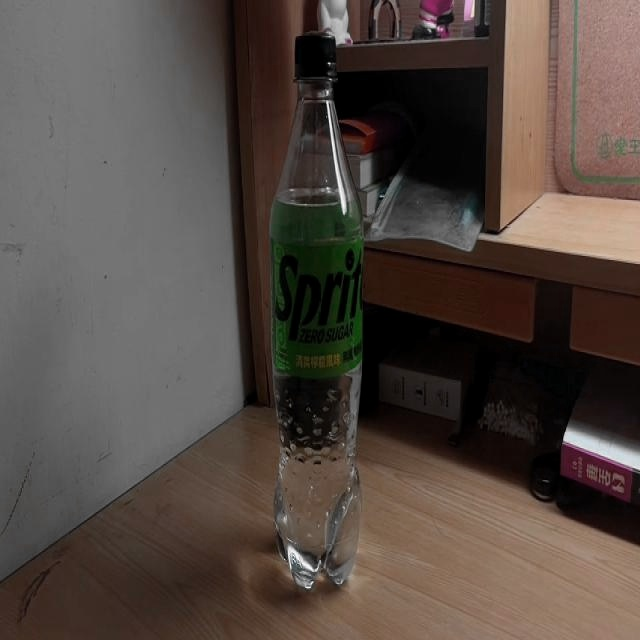Sprite: (269, 36, 363, 590)
